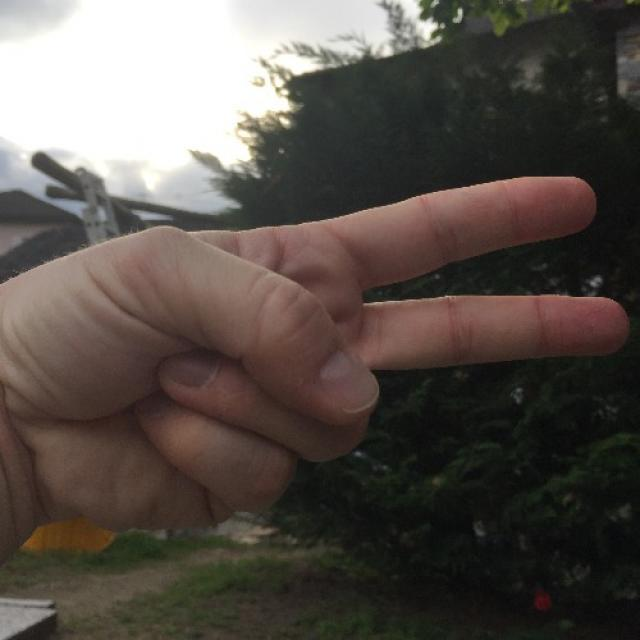scissors: (106, 173, 628, 512)
